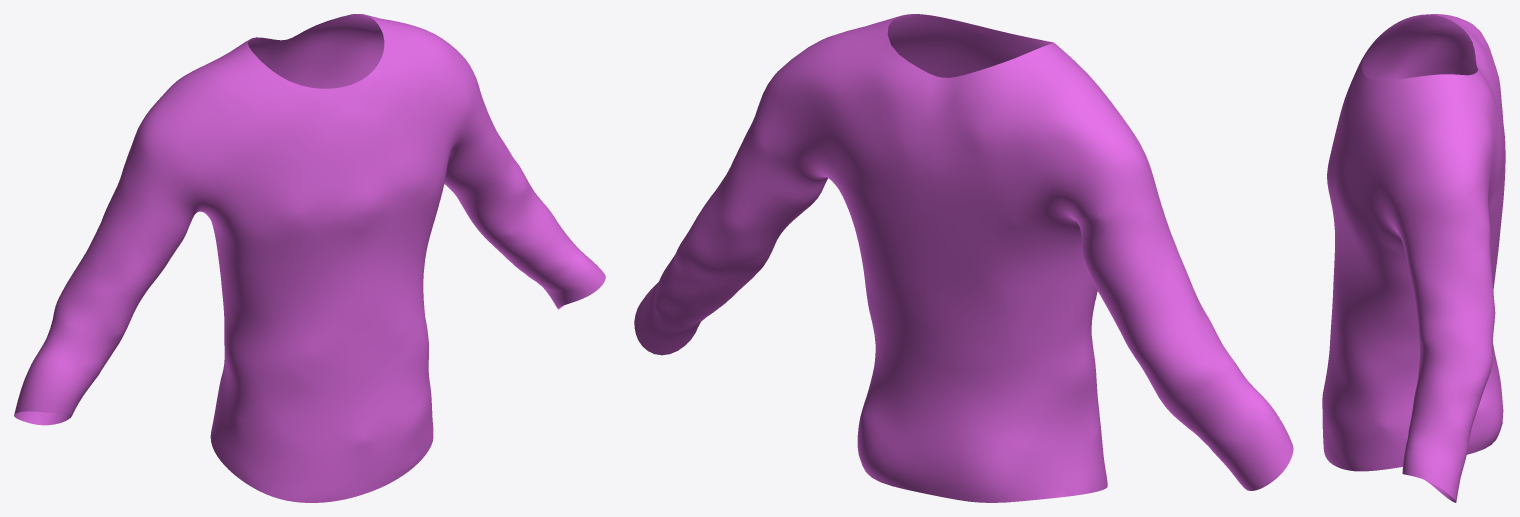
Rendered from Male-Small-Shirt.glb.
3 renders of one model, left to right at view 1: azimuth 30°, elevation 25°; view 2: azimuth 150°, elevation 25°; view 3: azimuth 270°, elevation 25°, orthographic. The views are drawn at different scales.
Parts seen in each view (by area): view 1: Group1.010; view 2: Group1.010; view 3: Group1.010.
Boxes of the visible parts, x1,y1,x2,y2 form: Group1.010: [14, 14, 605, 502]; Group1.010: [634, 14, 1293, 502]; Group1.010: [1322, 14, 1505, 502].
Bounding box in the file's own units: 1.79 × 1.23 × 0.5021.
